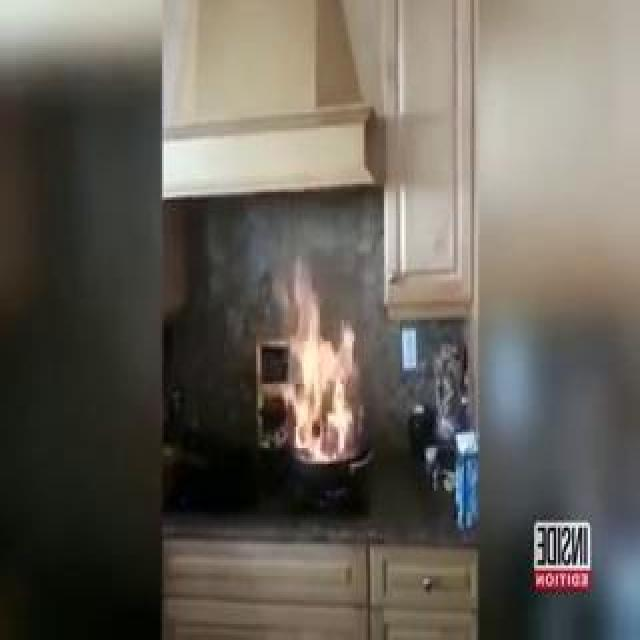Fire: (277, 235, 367, 472)
